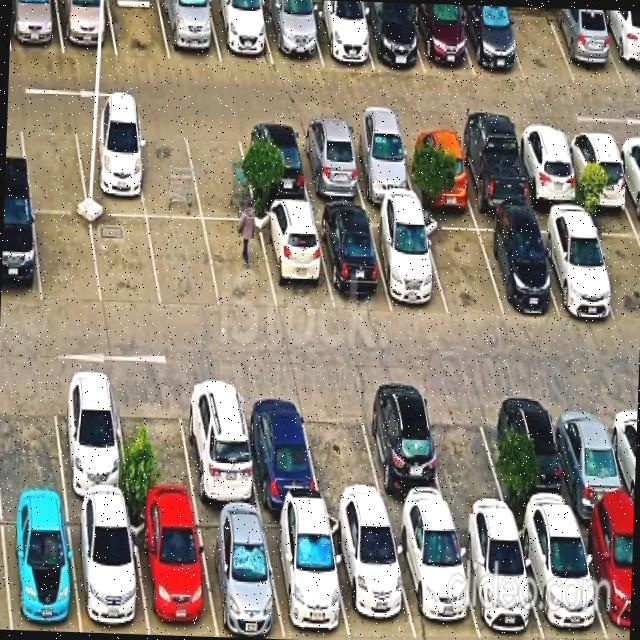empty: (0, 395, 61, 513), (122, 408, 188, 517), (307, 416, 377, 518), (432, 408, 494, 514), (432, 225, 497, 317), (92, 210, 152, 302), (140, 121, 196, 219), (36, 216, 98, 304), (196, 122, 252, 215), (21, 127, 82, 212), (207, 217, 264, 304), (152, 215, 208, 297), (509, 6, 561, 76), (109, 0, 164, 61)
occupied: (0, 518, 73, 631), (135, 520, 206, 636), (206, 522, 276, 638), (180, 412, 252, 524), (339, 528, 409, 640), (273, 522, 339, 640), (529, 529, 599, 640), (72, 520, 138, 634), (56, 409, 126, 516), (367, 408, 435, 518), (404, 527, 470, 640), (470, 527, 532, 640), (251, 418, 312, 530), (499, 402, 558, 514), (552, 219, 612, 327), (558, 413, 620, 516), (381, 214, 441, 314), (79, 115, 142, 209), (494, 218, 552, 320), (326, 208, 382, 310), (468, 126, 524, 227), (411, 118, 466, 219), (262, 212, 322, 304), (242, 122, 304, 210), (572, 130, 626, 229), (521, 130, 574, 230), (354, 125, 406, 212), (304, 124, 355, 207), (364, 1, 417, 70), (162, 0, 215, 65), (417, 3, 466, 72), (317, 0, 365, 68), (467, 5, 514, 74), (556, 8, 608, 70), (214, 0, 265, 61), (1, 214, 37, 300), (267, 0, 316, 63), (59, 0, 108, 50), (9, 0, 54, 50)
